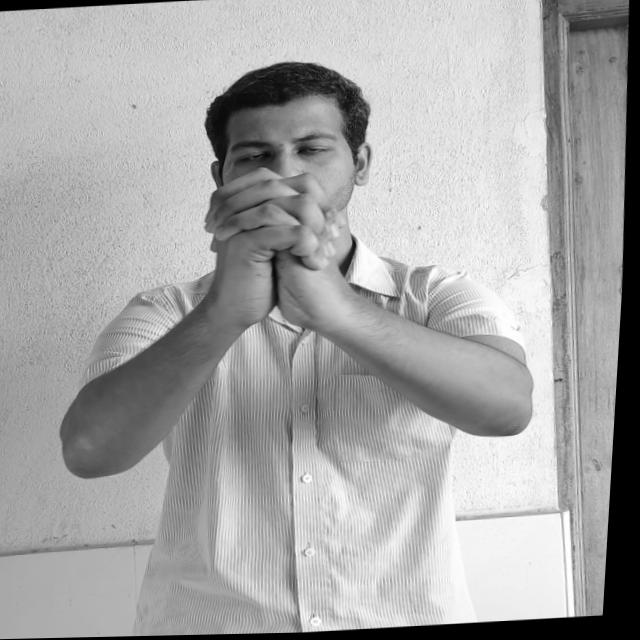Sorry: (183, 165, 364, 310)
